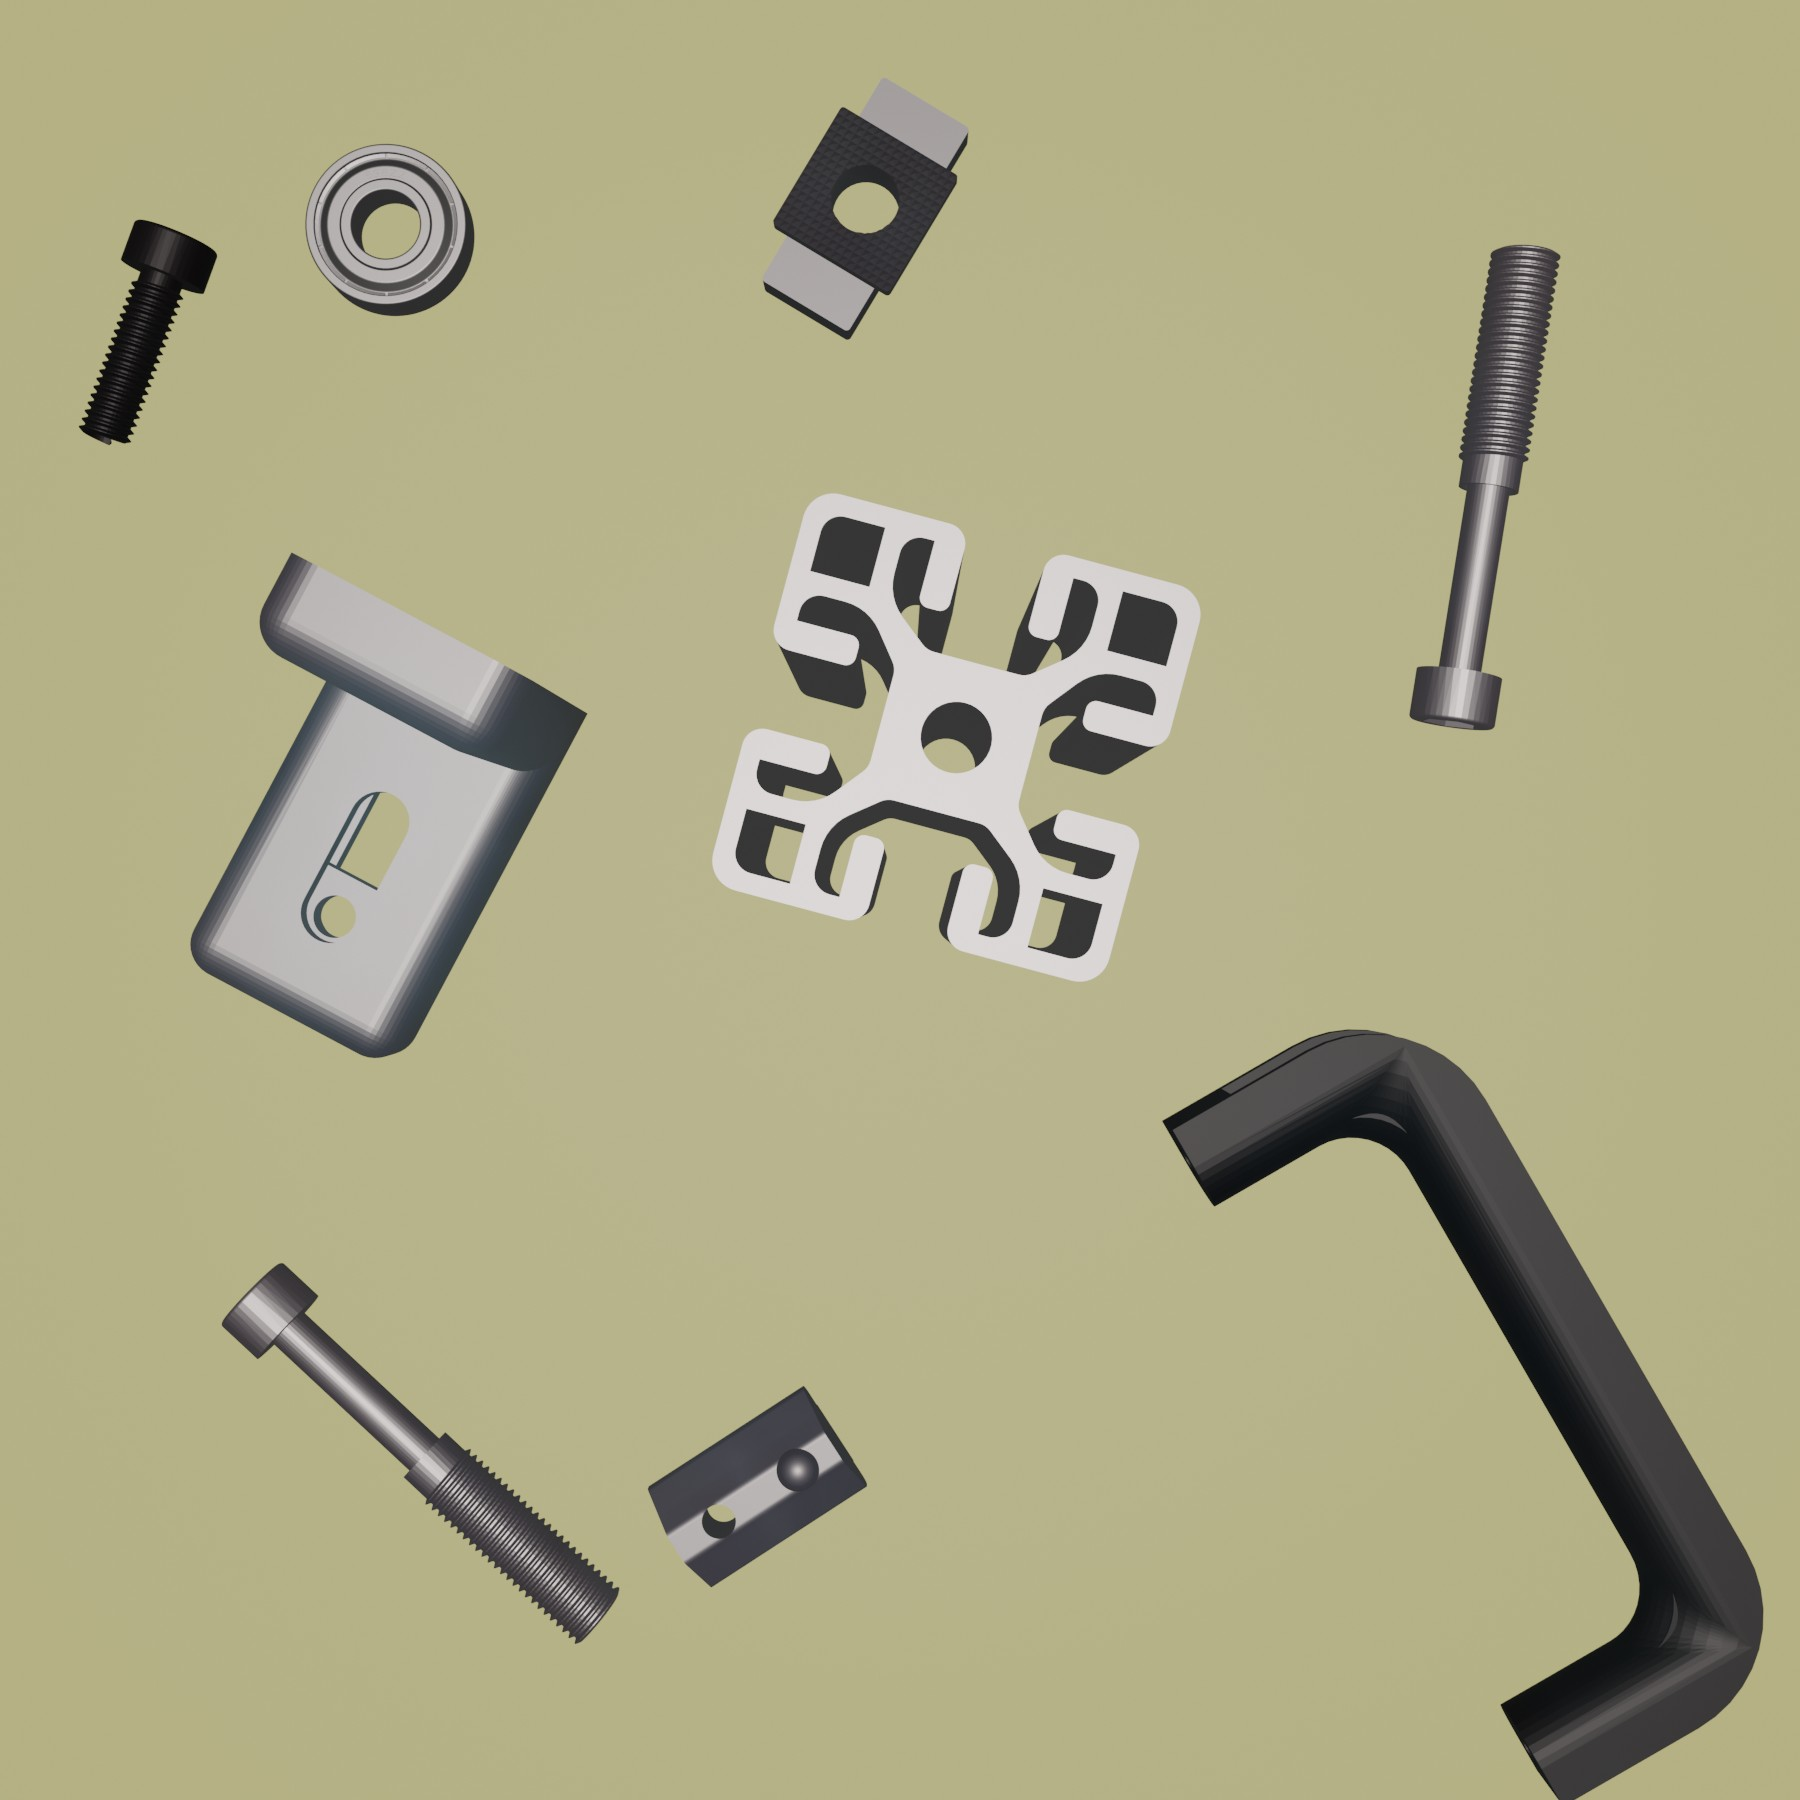Aluminium Extension: (709, 490, 1202, 986)
Ball Bearing: (302, 138, 476, 318)
Multiwinkel: (188, 549, 588, 1058)
Pull Handle: (1160, 1027, 1767, 1800)
Shoulder Socket Head Cap Screw: (219, 1259, 620, 1647), (1406, 241, 1564, 734)
Socket Head Cap Screw: (74, 216, 219, 447)
T Nut Square: (762, 74, 971, 341)
T Spring Nut: (648, 1380, 870, 1591)
